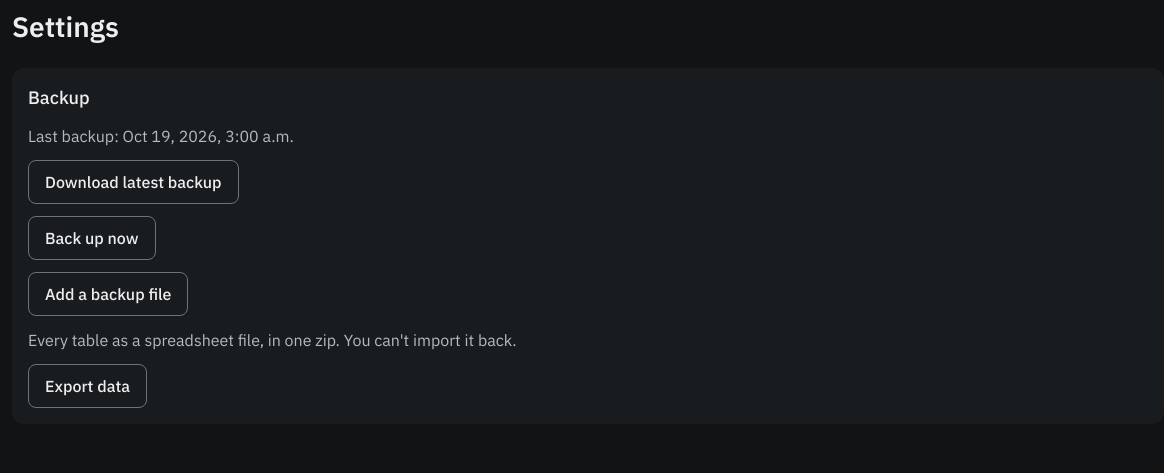
Test case: Download latest backup › shows the backend detail when the download fails
Click the button "Download latest backup". click: (133, 182)
box: [28,160,239,204]
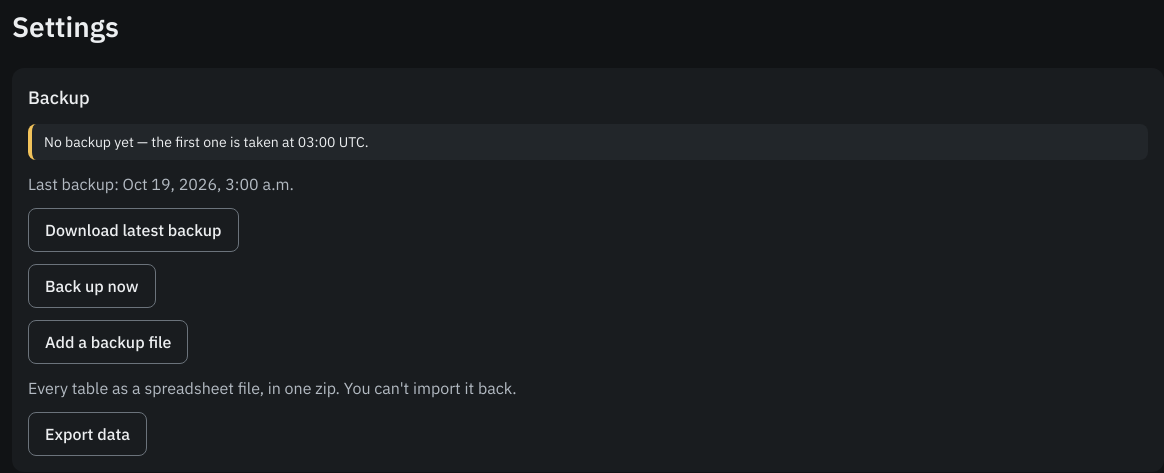
Expected: the text "No backup yet — the first one is taken at 03:00 UTC." is shown, [28,124,1148,160]
